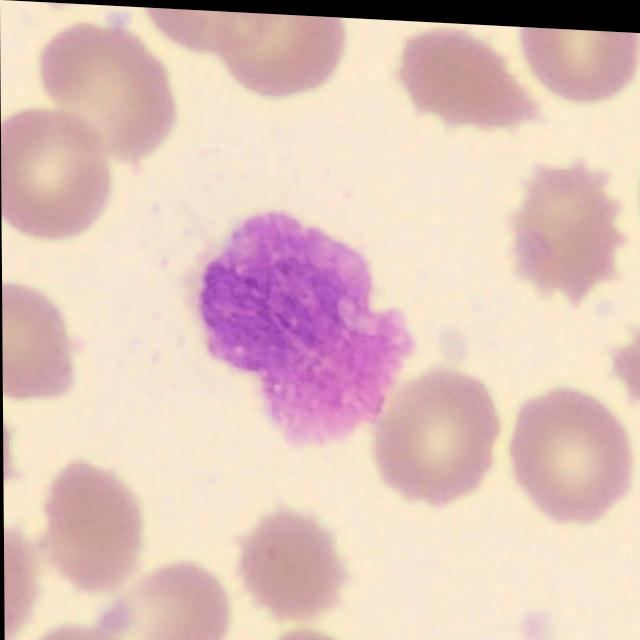Restos celulares: (197, 208, 413, 445)
